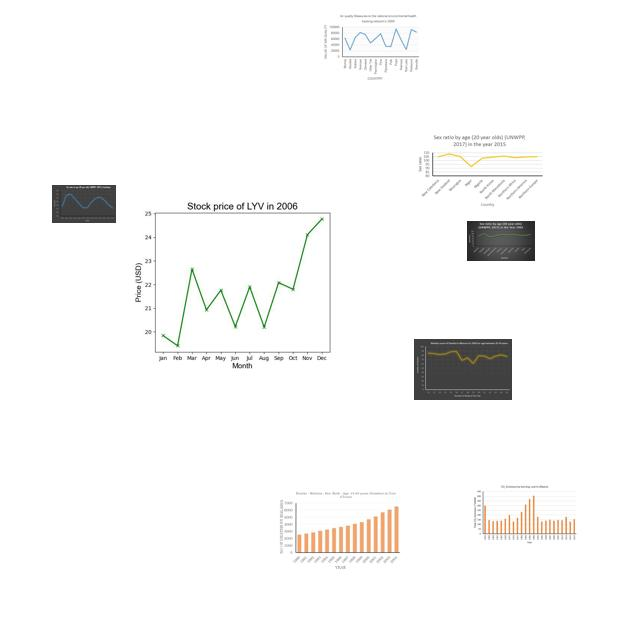Graph: (119, 191, 360, 372), (276, 490, 402, 572), (414, 131, 544, 209), (321, 12, 421, 83), (473, 484, 577, 544), (414, 339, 512, 400), (467, 221, 535, 261), (52, 185, 116, 223)
